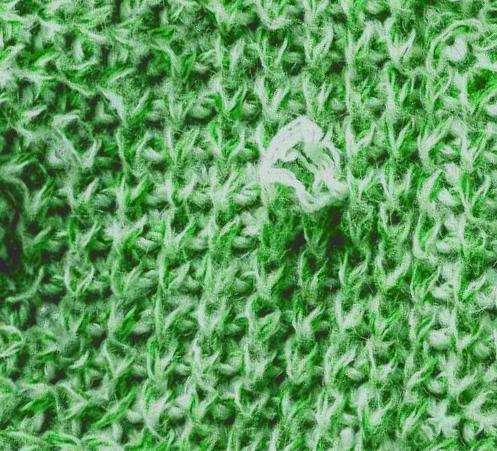snag: (249, 116, 347, 220)
